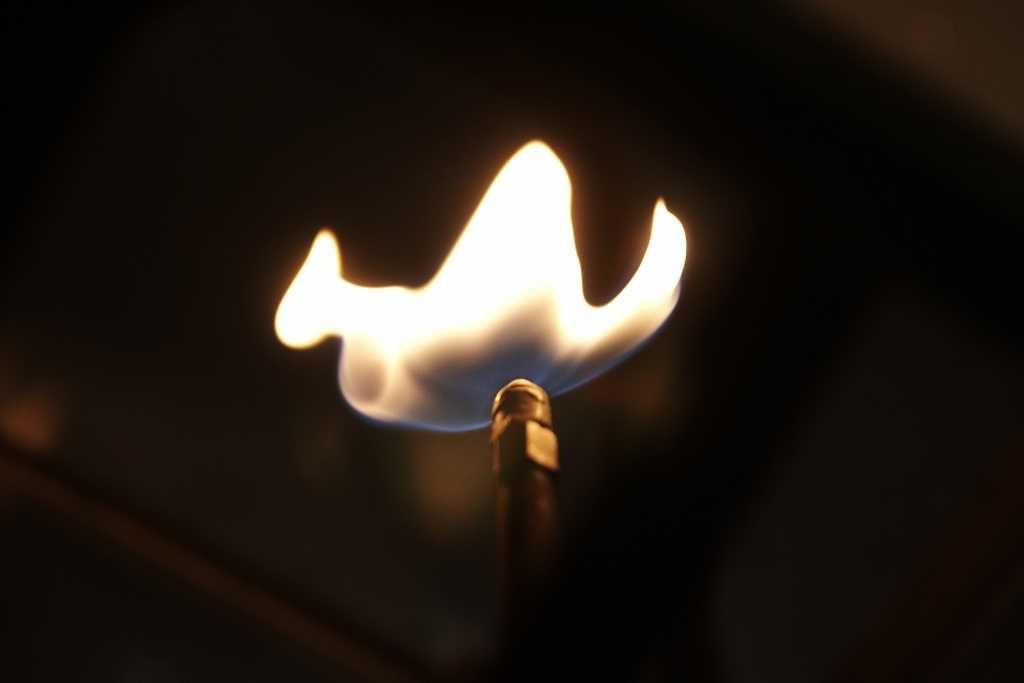fire: (473, 190, 567, 392), (362, 283, 465, 428)
